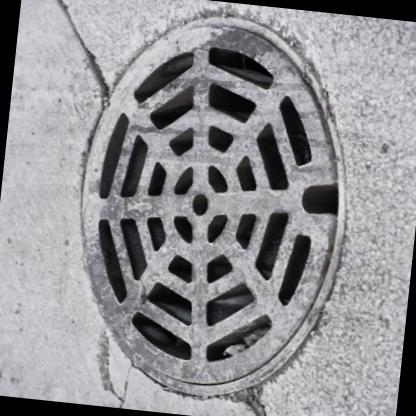manholes: (8, 0, 415, 416)
